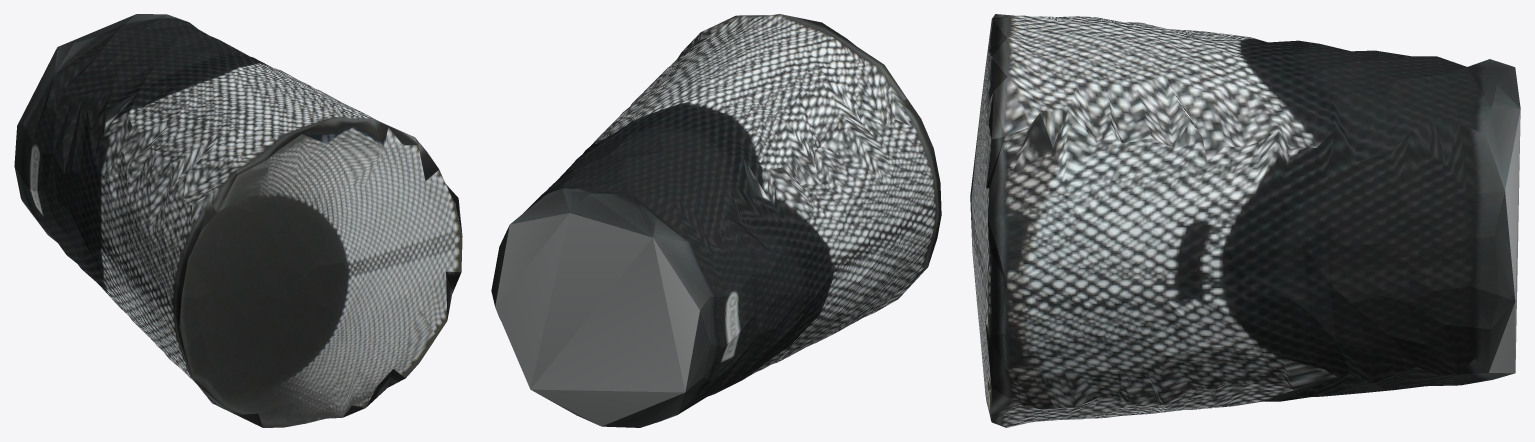
The model's file is rolodex_jumbo_pencil_cup.dae.
3 views of the same model, side by side, from view 1: azimuth 30°, elevation 25°; view 2: azimuth 150°, elevation 25°; view 3: azimuth 270°, elevation 25° (orthographic). The views are drawn at different scales.
Visible parts, largest first — view 1: node; view 2: node; view 3: node.
Boxes of the visible parts, x1=… form: node: x1=14, y1=14, x2=462, y2=427; node: x1=491, y1=14, x2=941, y2=427; node: x1=970, y1=14, x2=1520, y2=427.
Size of the model in its own units: 0.1076 by 0.1085 by 0.1429.
Materials: 1 (1 with a texture image).
